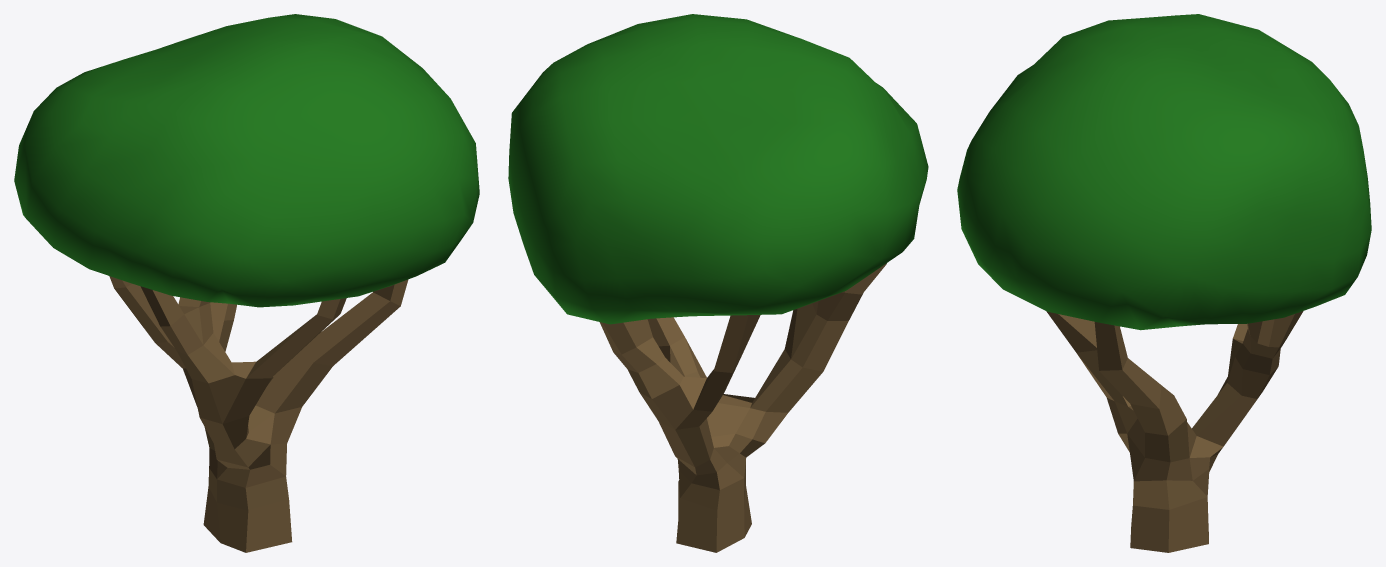
File: KuaTree.fbx
3 views of the same model, side by side, from view 1: azimuth 30°, elevation 25°; view 2: azimuth 150°, elevation 25°; view 3: azimuth 270°, elevation 25° (orthographic).
Visible parts, largest first — view 1: KuaTree.001; view 2: KuaTree.001; view 3: KuaTree.001.
Part boxes in pixels (x1,y1,x2,y2): KuaTree.001: (14, 14, 479, 552); KuaTree.001: (508, 14, 928, 552); KuaTree.001: (957, 14, 1371, 552).
Size of the model in its own units: 206 by 247 by 190.
